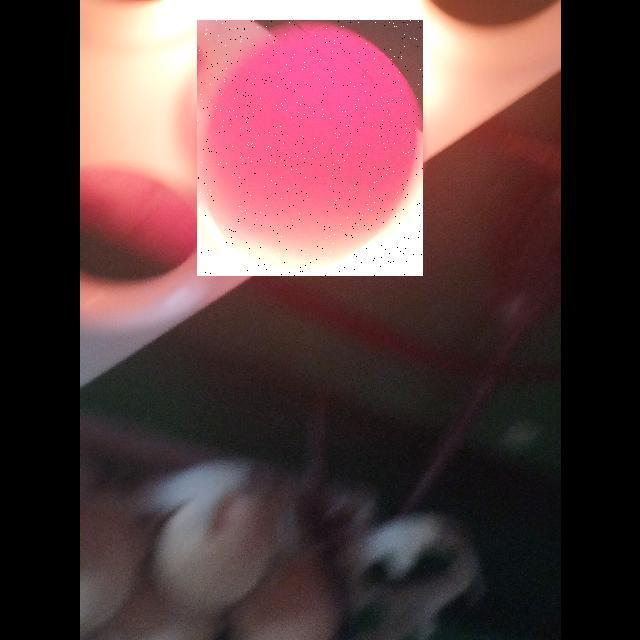Infertile: (197, 20, 423, 276)
